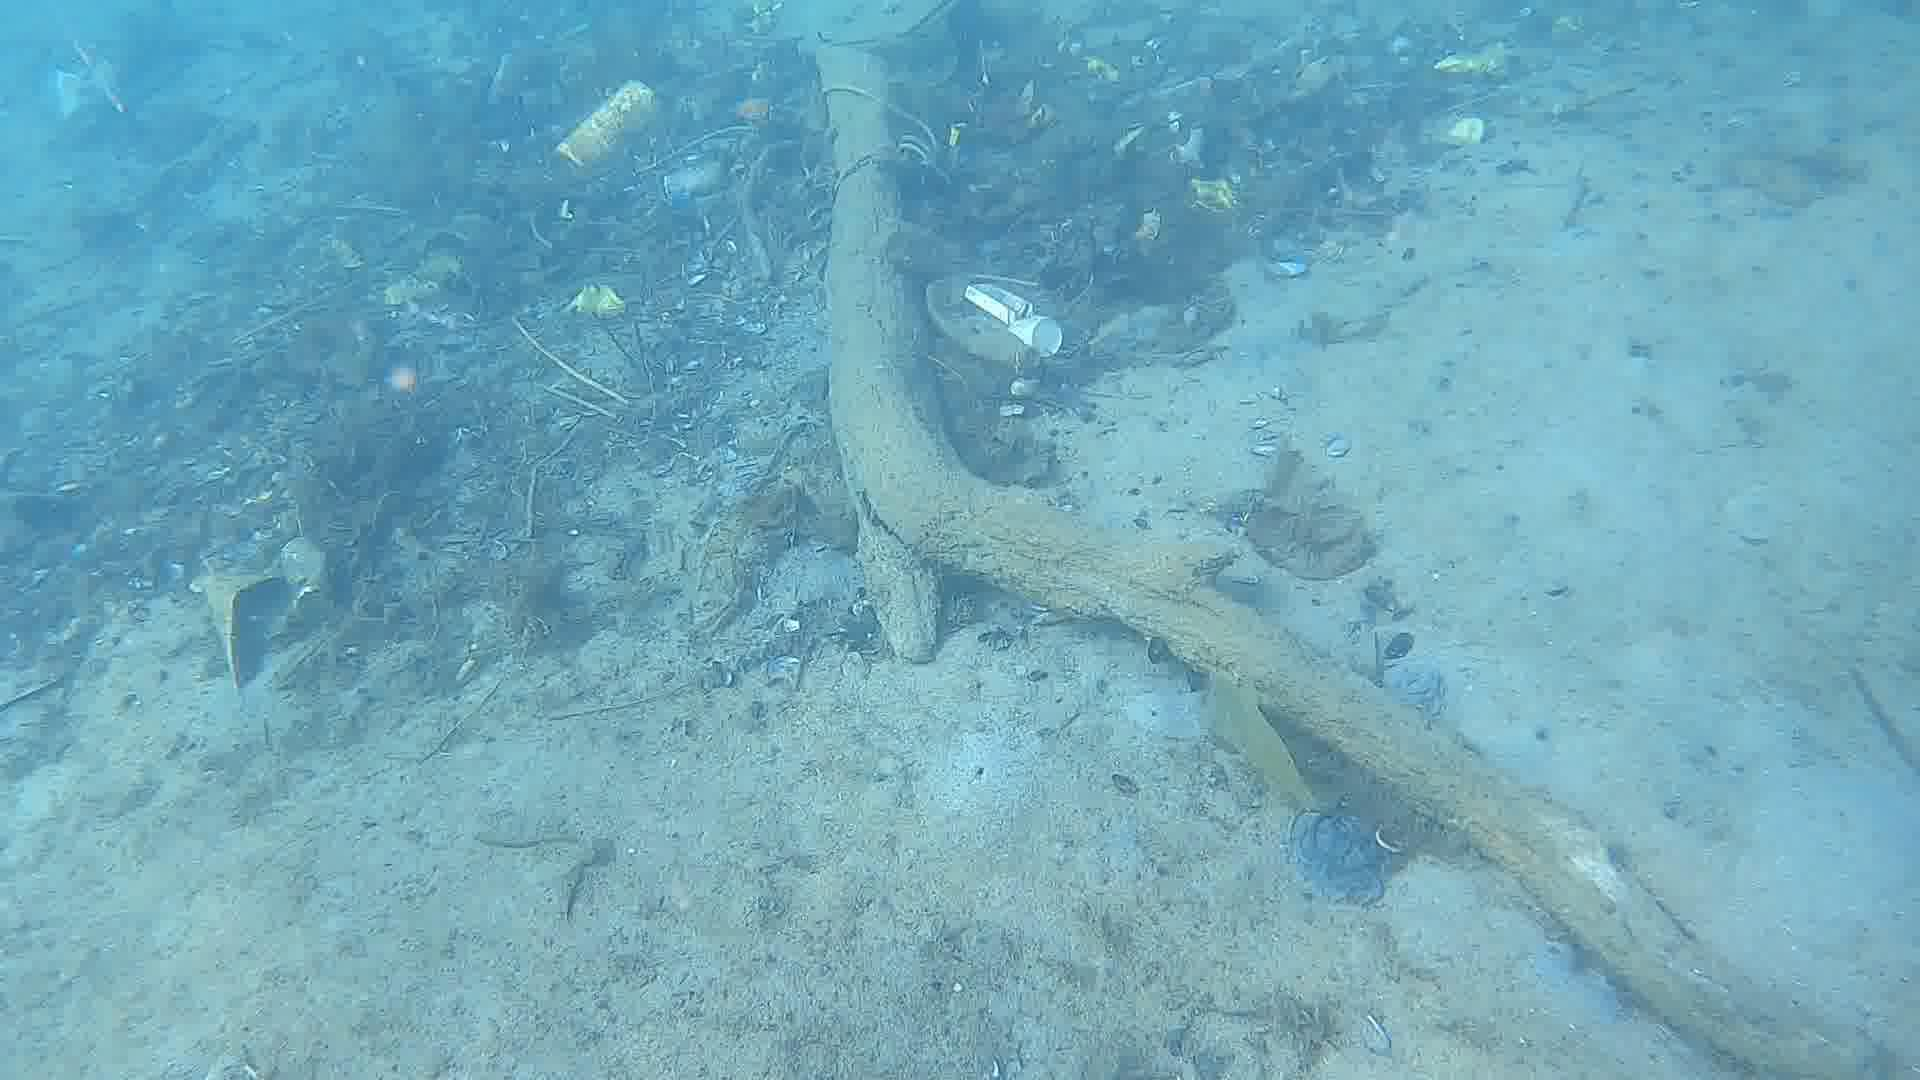wood: (811, 42, 1920, 1080)
